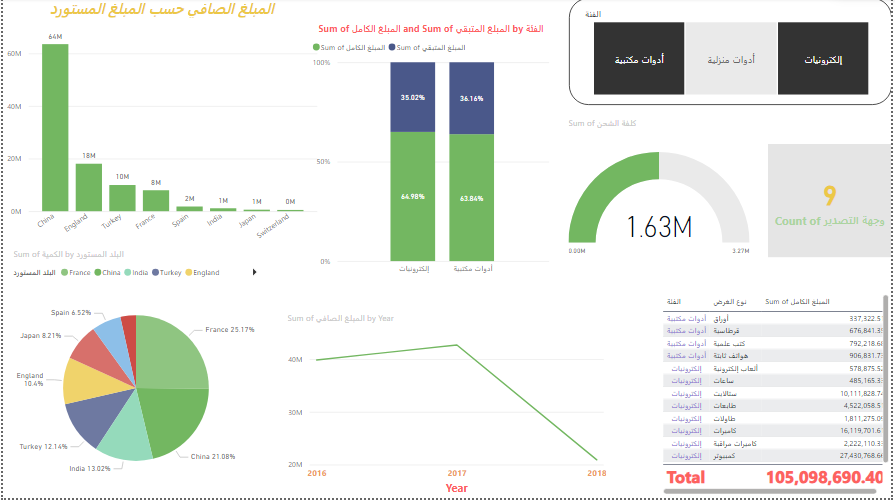

This screenshot's page, from the dashboard's own definition file:
{"tool":"powerbi","page":{"name":"Page 1","canvas":[1280,720],"ordinal":0},"visuals":[{"type":"columnChart","title":"المبلغ الصافي حسب المبلغ المستورد","fields":{"Category":["Table1.البلد المستورد"],"Y":["Sum(Table1.المبلغ الصافي)"]},"box":[0,0,457.9,360],"z":0},{"type":"pieChart","fields":{"Category":["Table1.البلد المستورد"],"Y":["Sum(Table1.الكمية)"]},"box":[10.1,360,362.9,360],"z":1000},{"type":"lineChart","fields":{"Y":["Sum(Table1.المبلغ الصافي)"],"Category":["Table1.تاريخ الاستيراد.Variation.Date Hierarchy.Year","Table1.تاريخ الاستيراد.Variation.Date Hierarchy.Quarter","Table1.تاريخ الاستيراد.Variation.Date Hierarchy.Month","Table1.تاريخ الاستيراد.Variation.Date Hierarchy.Day"]},"box":[404.6,452.2,469.4,267.8],"z":2000},{"type":"hundredPercentStackedColumnChart","fields":{"Y":["Sum(Table1.المبلغ الكامل)","Sum(Table1.المبلغ المتبقي)"],"Category":["Table1.الفئة"]},"box":[440.6,34.6,351.4,373],"z":3000},{"type":"tableEx","fields":{"Values":["Table1.الفئة","Table1.نوع الغرض","Sum(Table1.المبلغ الكامل)"]},"box":[944.6,421.9,335.5,298.1],"z":4000},{"type":"card","fields":{"Values":["Count(Table1.وجهة التصدير)"]},"box":[1101.6,210.2,178.6,162.7],"z":5000},{"type":"slicer","fields":{"Values":["Table1.الفئة"]},"box":[815,0,465.1,154.1],"z":6000},{"type":"gauge","fields":{"Y":["Sum(Table1.كلفة الشحن)"]},"box":[809.3,171.4,270.7,236.2],"z":7000}]}

Visuals, with their boxes in screenshot pixels (x1, y1, x2, y2), scaled from the page's 1280x720 canvas onto the 895x501 screenshot:
"المبلغ الصافي حسب المبلغ المستورد" columnChart: [0,0,320,250]
pieChart - Table1.البلد المستورد x Sum(Table1.الكمية): [7,250,261,500]
lineChart - Sum(Table1.المبلغ الصافي) x Table1.تاريخ الاستيراد.Variation.Date Hierarchy.Year: [283,315,611,500]
hundredPercentStackedColumnChart - Sum(Table1.المبلغ الكامل) x Sum(Table1.المبلغ المتبقي): [308,24,554,284]
tableEx - Table1.الفئة x Table1.نوع الغرض: [660,294,894,500]
card - Count(Table1.وجهة التصدير): [770,146,894,259]
slicer - Table1.الفئة: [570,0,894,107]
gauge - Sum(Table1.كلفة الشحن): [566,119,755,284]
